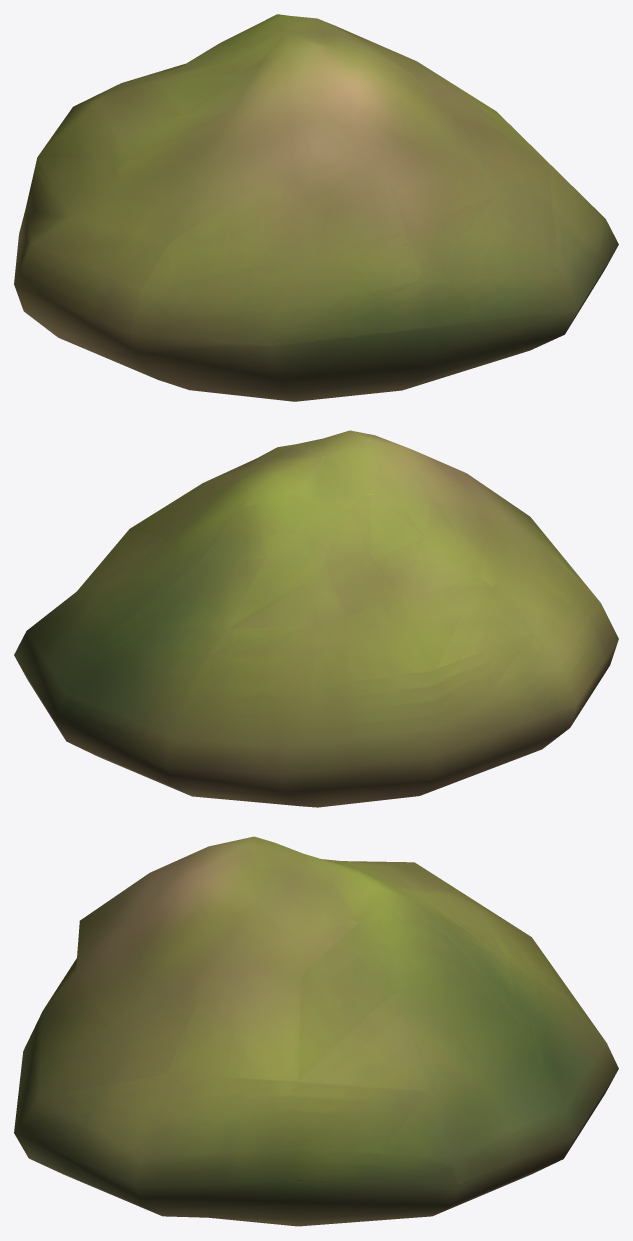
The model's file is rock_fat2_textured.fbx.
3 renders of one model, top to bottom at view 1: azimuth 30°, elevation 25°; view 2: azimuth 150°, elevation 25°; view 3: azimuth 270°, elevation 25°, orthographic. The views are drawn at different scales.
Visible parts, largest first — view 1: rock_fat; view 2: rock_fat; view 3: rock_fat.
Boxes of the visible parts, x1,y1,x2,y2 form: rock_fat: [14, 14, 618, 401]; rock_fat: [14, 430, 618, 807]; rock_fat: [14, 836, 618, 1226].
Size of the model in its own units: 165 by 96.35 by 166.
